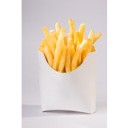frenchfries: (38, 18, 100, 71)
